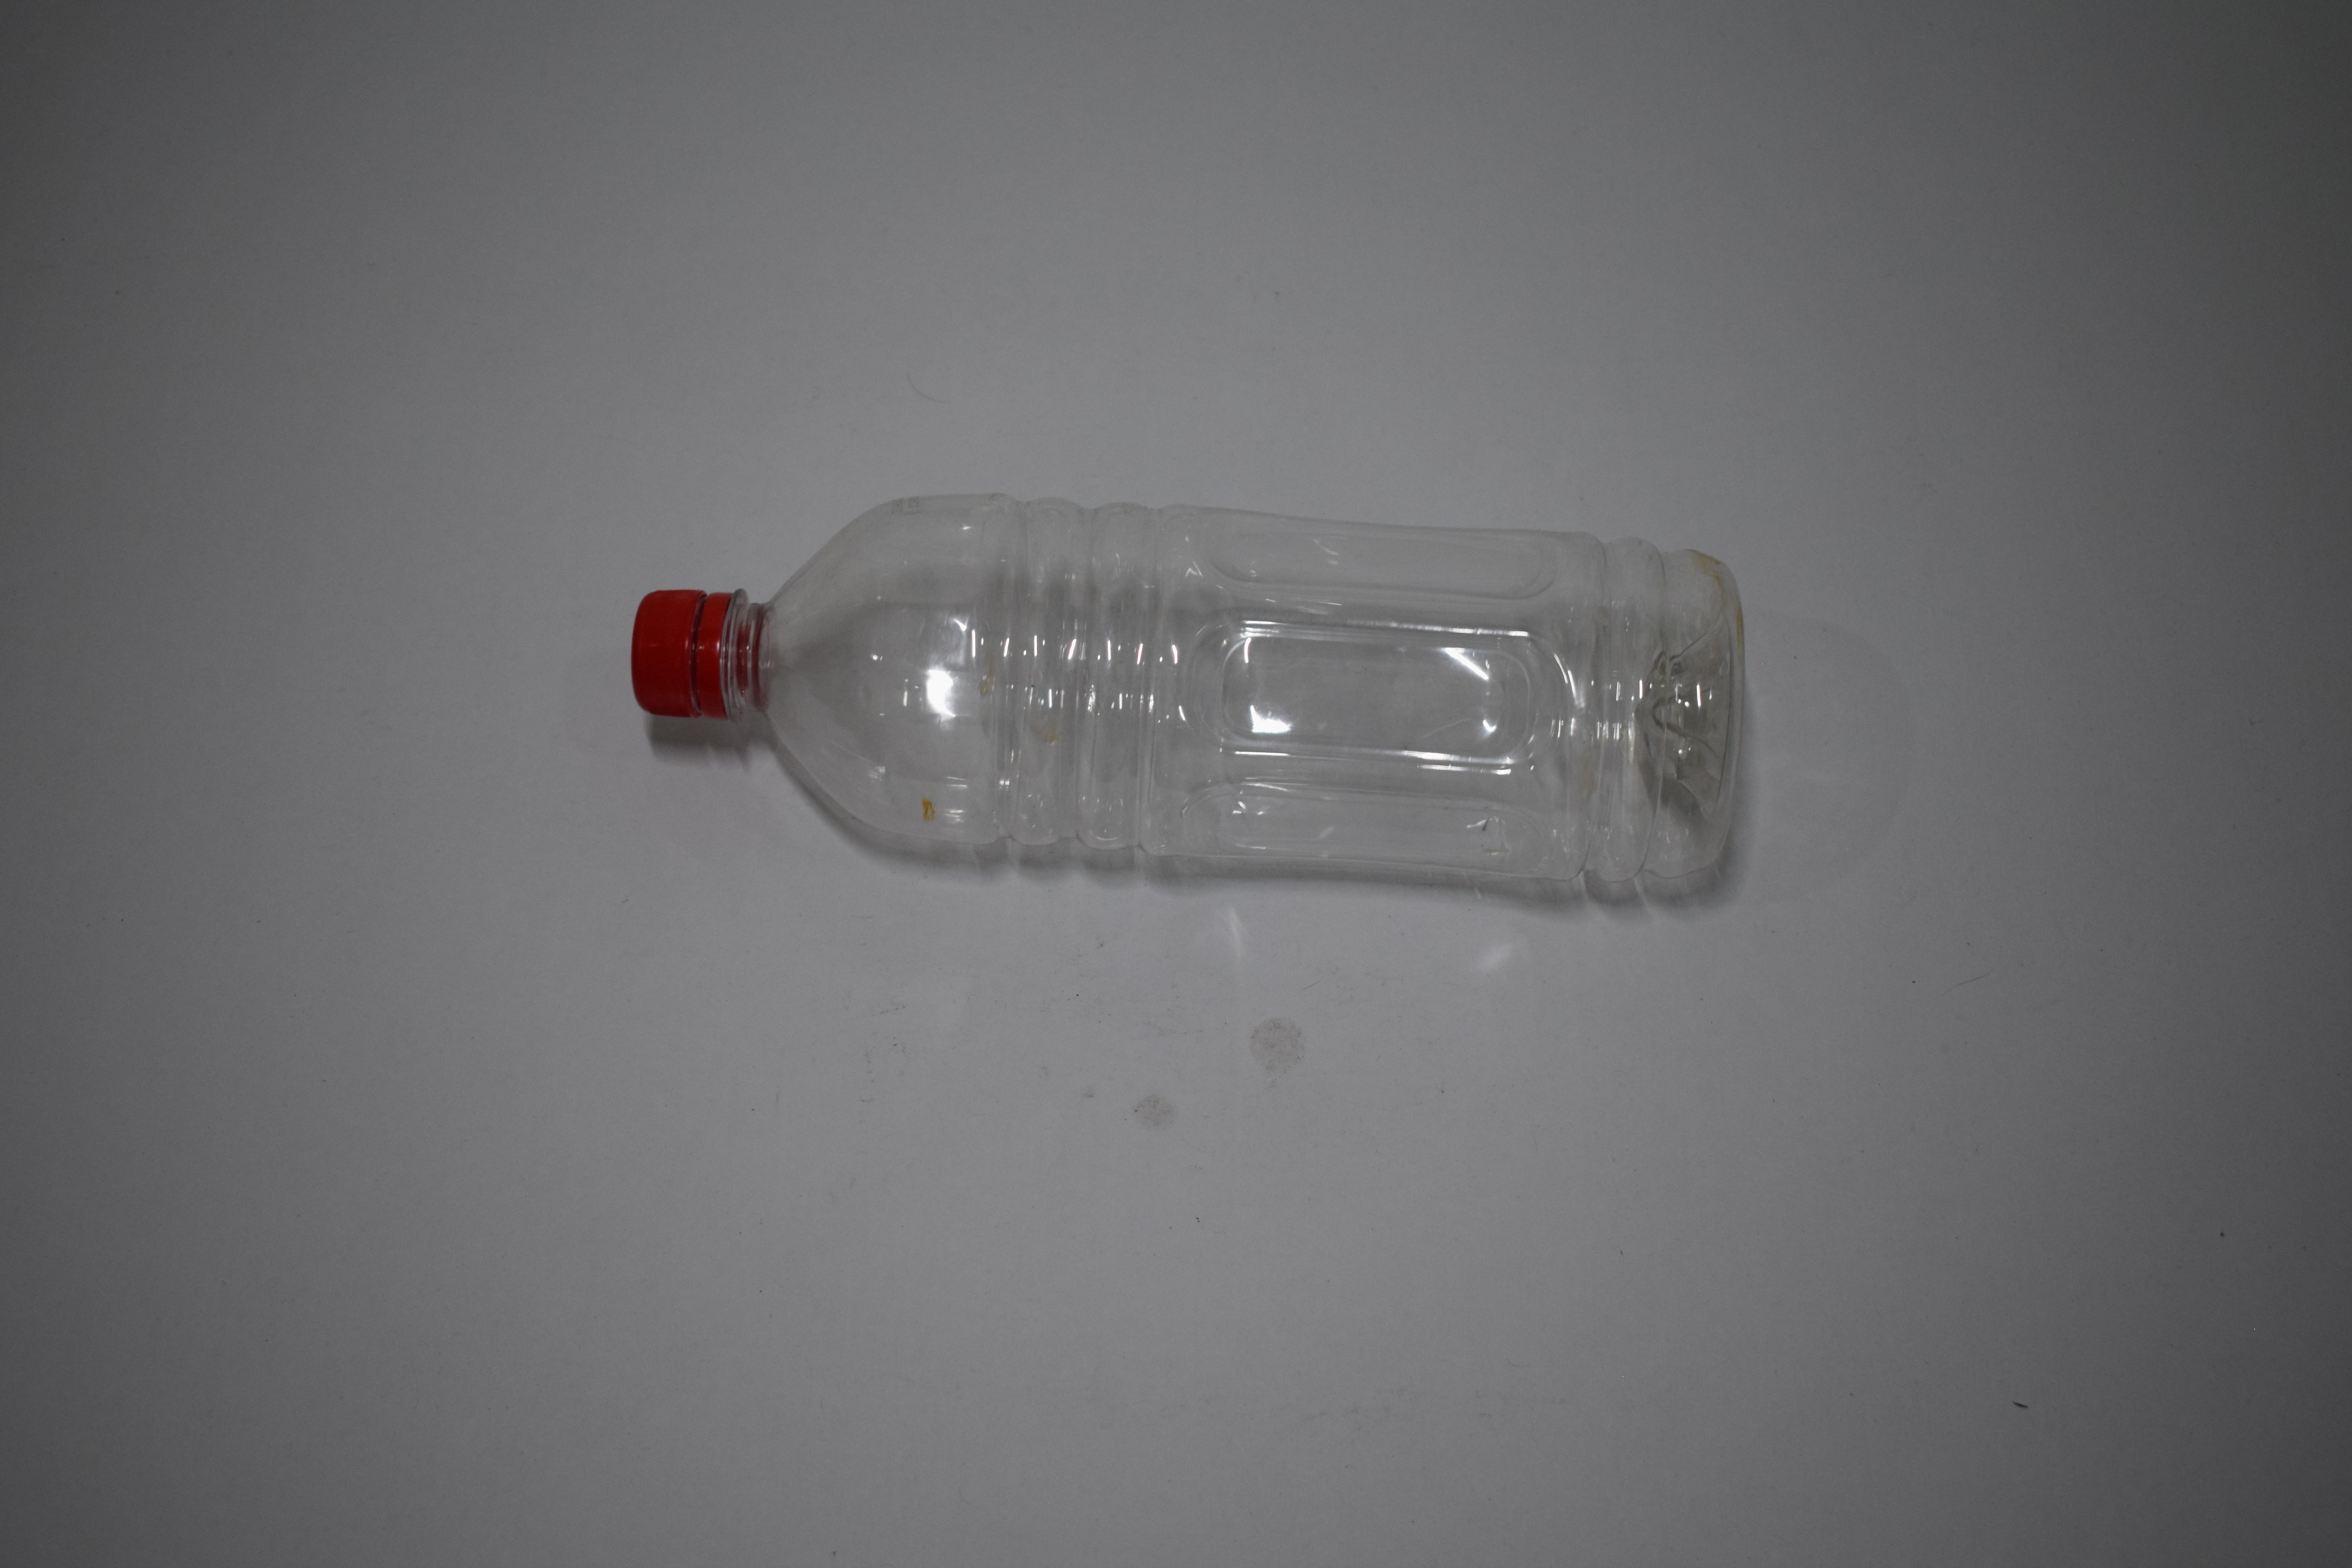bottle: (0, 478, 569, 901)
